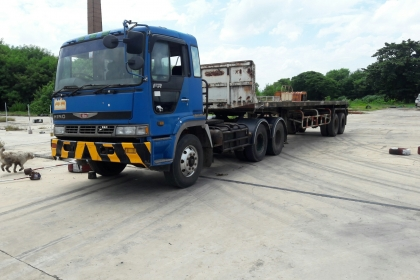truck: (49, 31, 270, 189)
